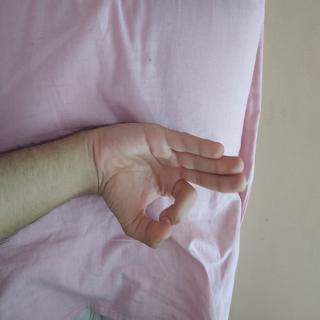Space: (87, 96, 193, 308)
